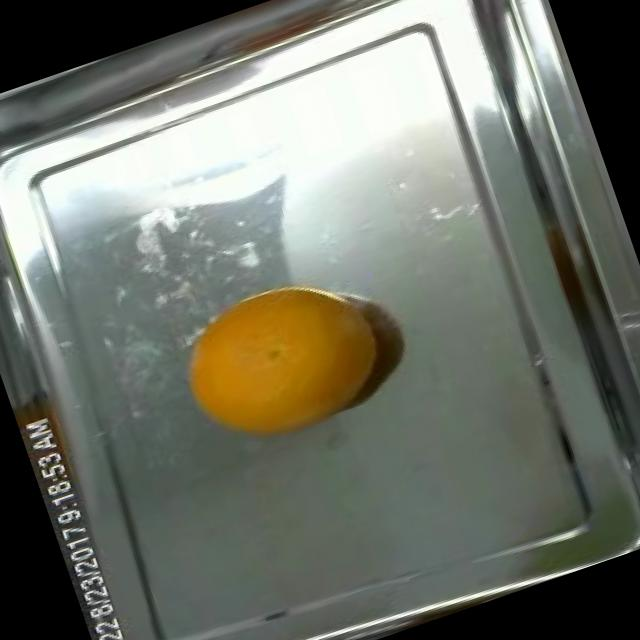Fruit: (151, 266, 369, 473)
